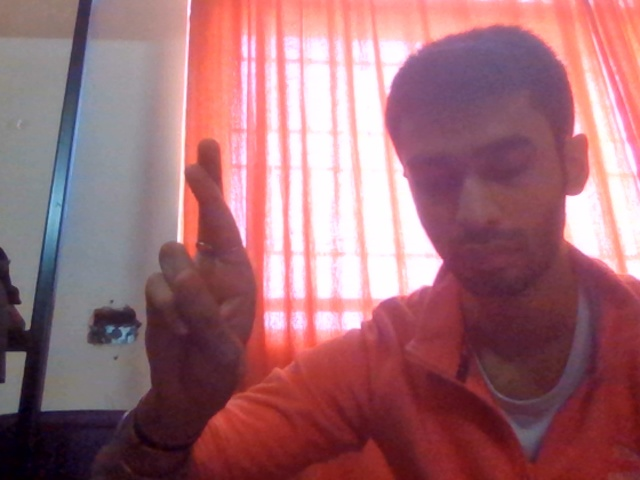R: (93, 120, 310, 455)
